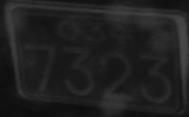0: (56, 19, 80, 41)
2: (100, 50, 132, 101)
3: (137, 52, 171, 104), (62, 44, 94, 96), (82, 20, 104, 41)
7: (24, 43, 55, 91)
주: (106, 20, 130, 46)
